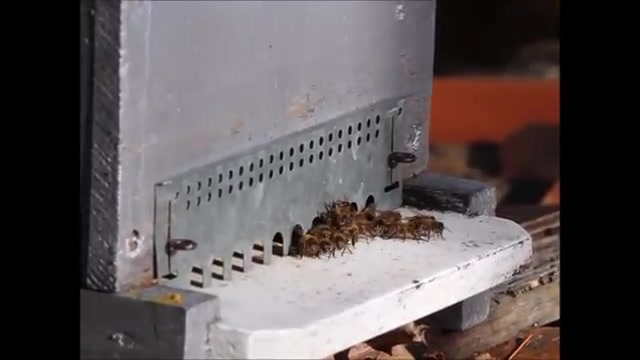bee: (356, 205, 411, 238), (329, 201, 356, 229), (303, 225, 327, 256), (415, 217, 446, 238), (329, 233, 352, 257)
